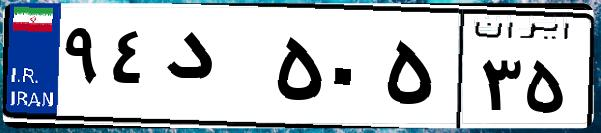0: (330, 28, 385, 110)
3: (475, 38, 525, 113)
4: (110, 28, 158, 98)
5: (270, 28, 330, 110), (385, 28, 445, 110), (525, 38, 570, 115)
9: (57, 26, 110, 100)
د: (158, 20, 270, 120)
